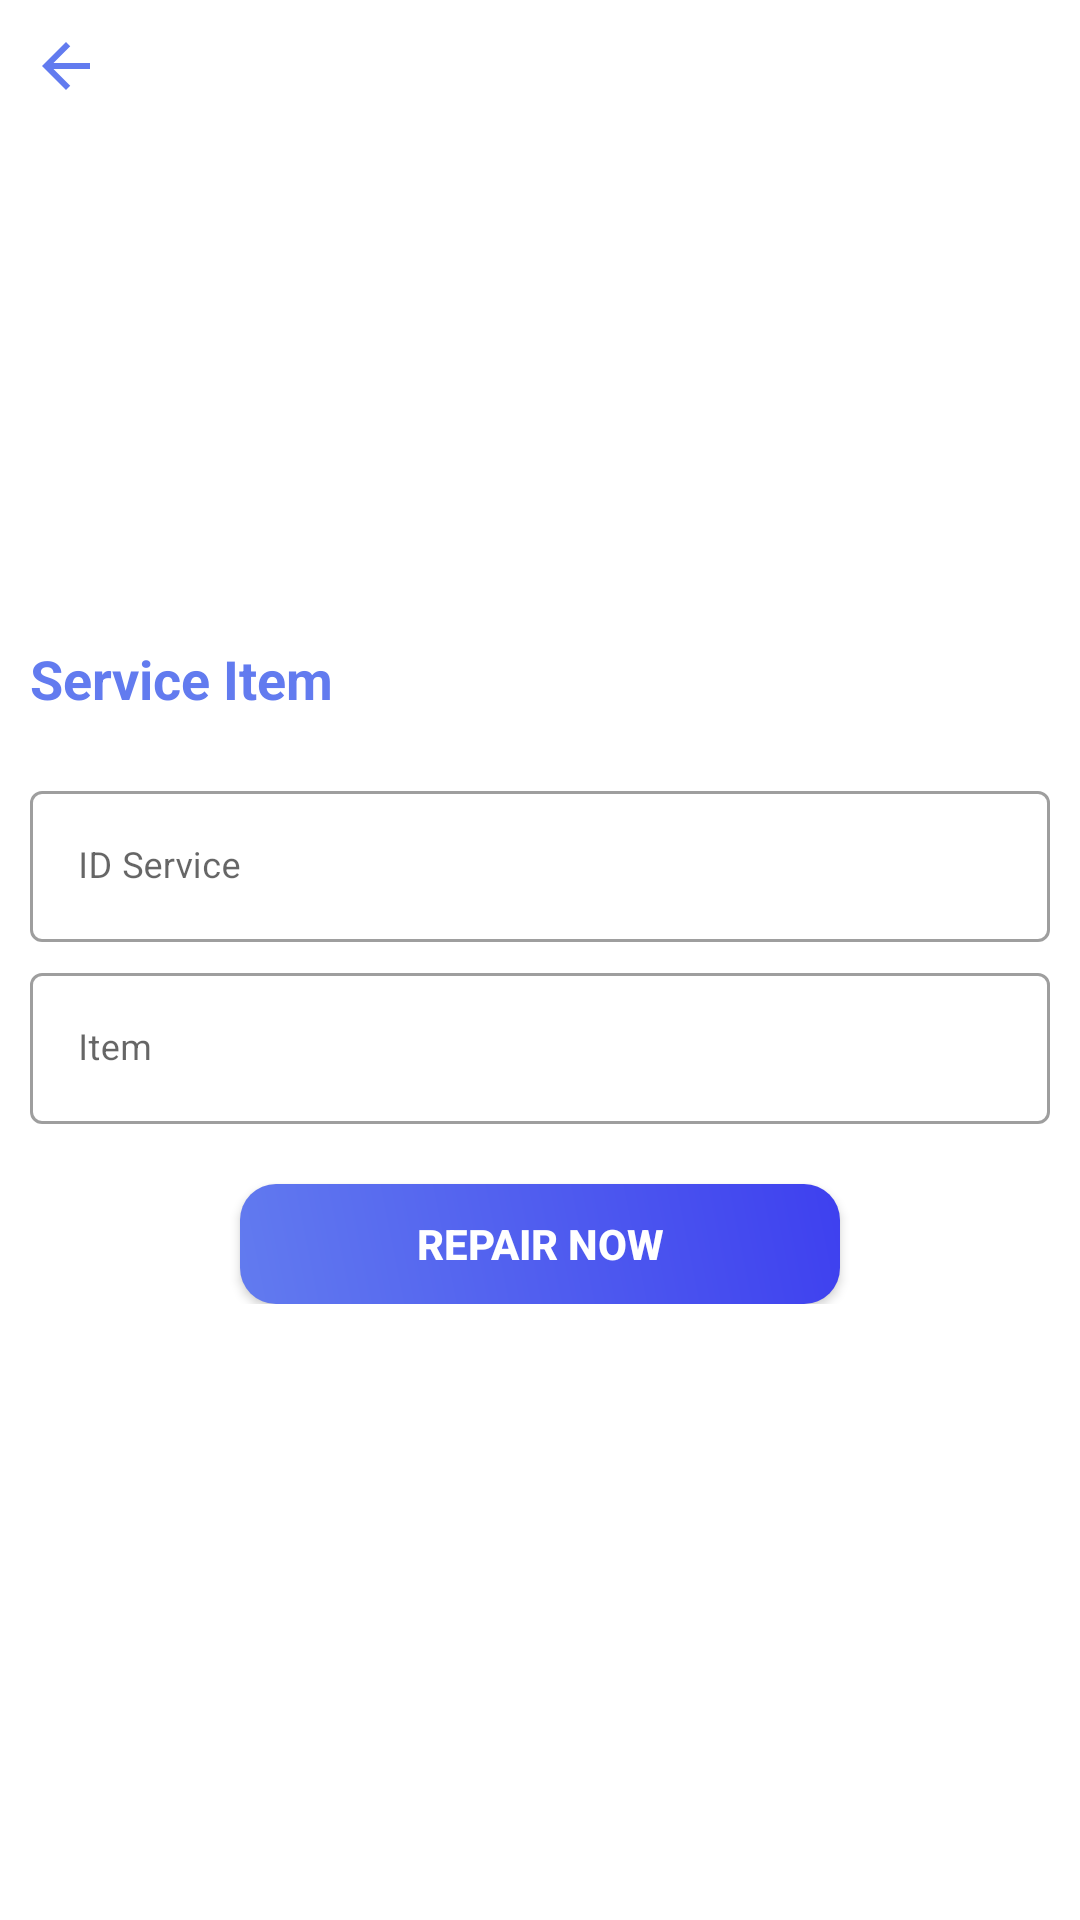

Where icons sit on this 1080×1920 app screen, as [x1, y1, x2, y2]:
arrow back: [42, 42, 90, 90]
